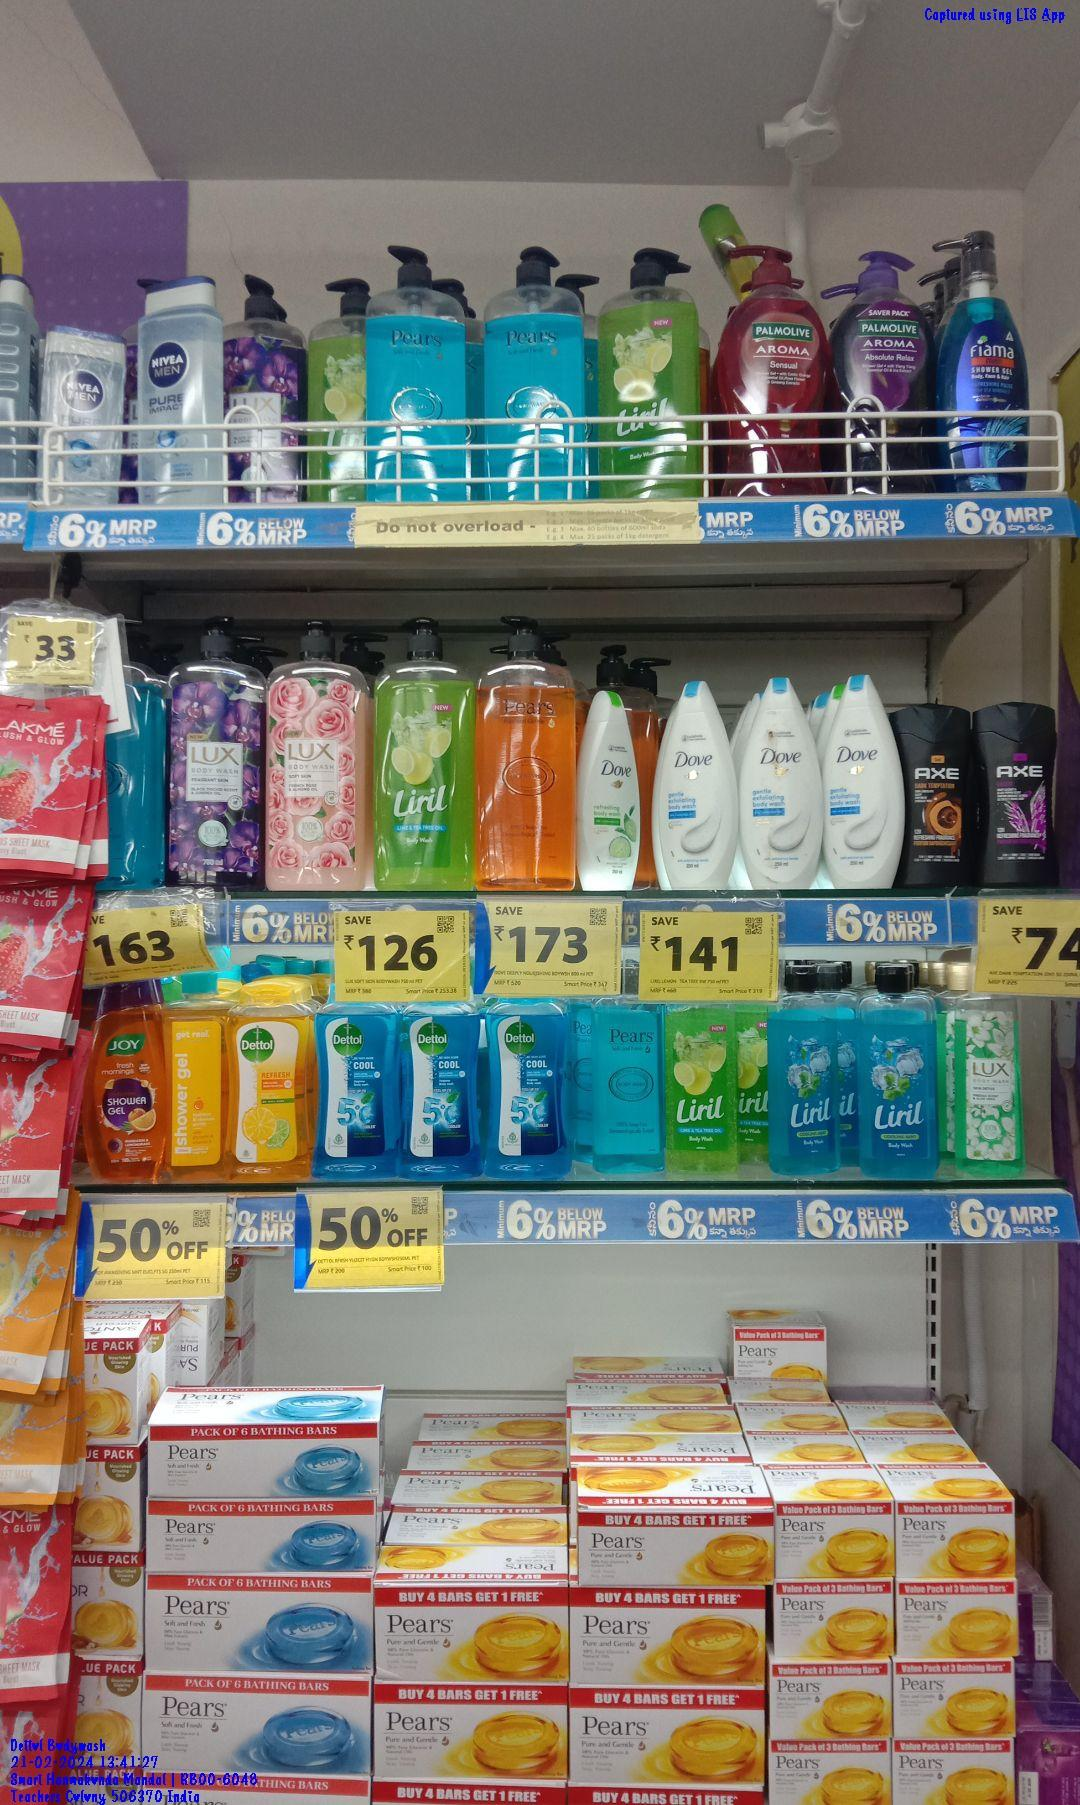Dettol_Bodywash_Cool: (481, 998, 572, 1178), (312, 1001, 400, 1179), (400, 1001, 482, 1178)
Dettol_Bodywash_Refresh: (224, 978, 314, 1180)
Dove_Gentle_Exfoliating_Body_Wash_250ML: (651, 679, 738, 891), (739, 674, 823, 888), (823, 672, 905, 887)
Dove_Refreshing_Body_Wash_250ML: (576, 689, 643, 891)
Joy_Shower_Gel_Mandarin_and_Lemongrass_250ML: (84, 980, 166, 1179)
Liril_Cooling_Mint_Body_Wash_250ML: (855, 963, 937, 1176), (765, 962, 840, 1176)
Liril_Lime_and_Tea_Tree_Oil_Body_Wash_250ML: (663, 1004, 738, 1178)
Lux_Body_Wash_Skin_Detox_Freesia_Scent_and_Alove_Vera_245ML: (955, 992, 1025, 1181)
Pears_Pure_Glycerin_and_Mint_Extracts_Body_Wash_250ML: (590, 996, 665, 1178)
